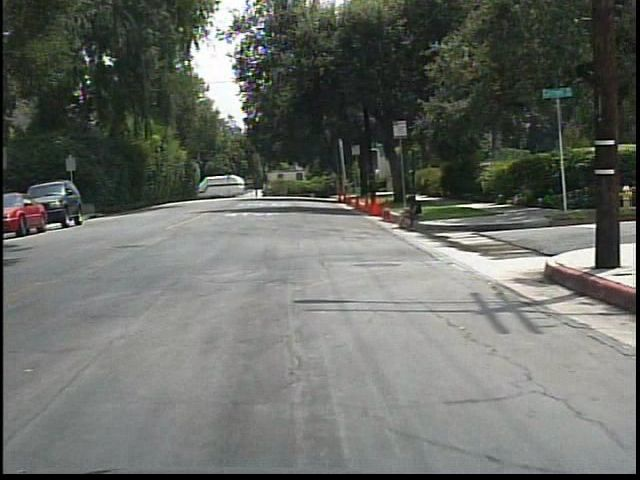person: (391, 191, 425, 235)
